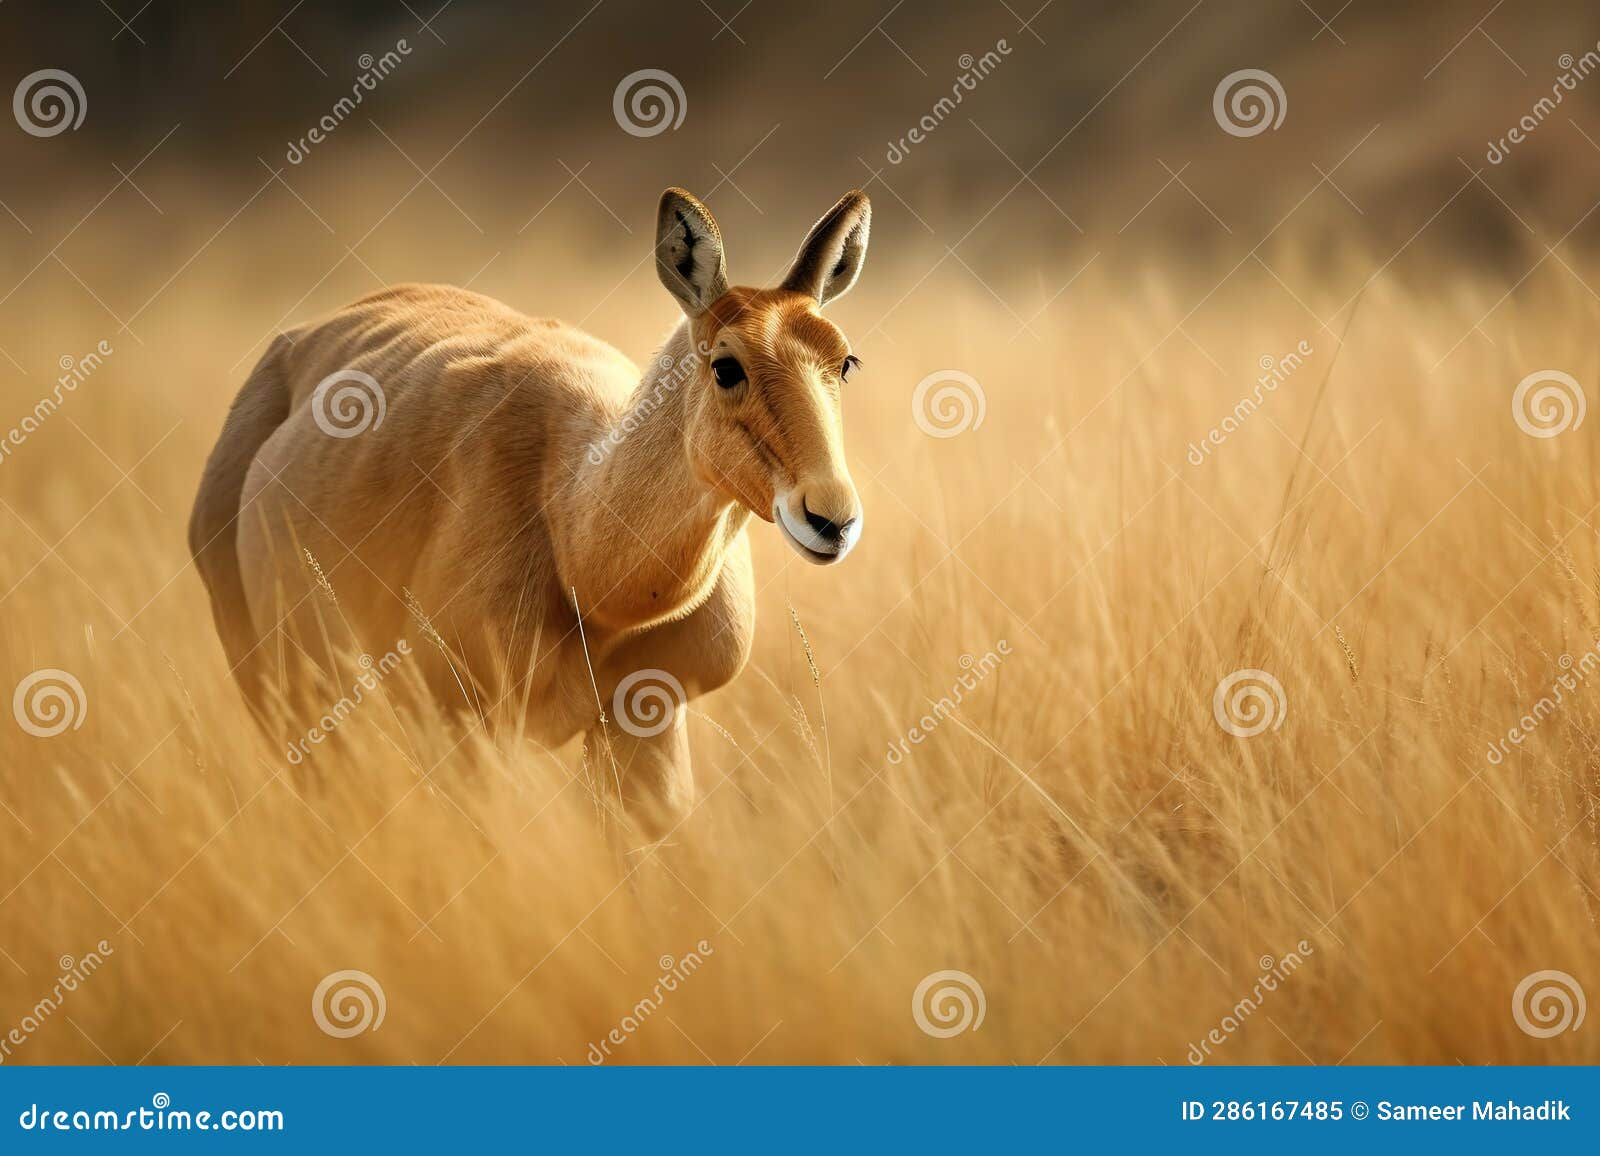saiga: (169, 173, 902, 926)
